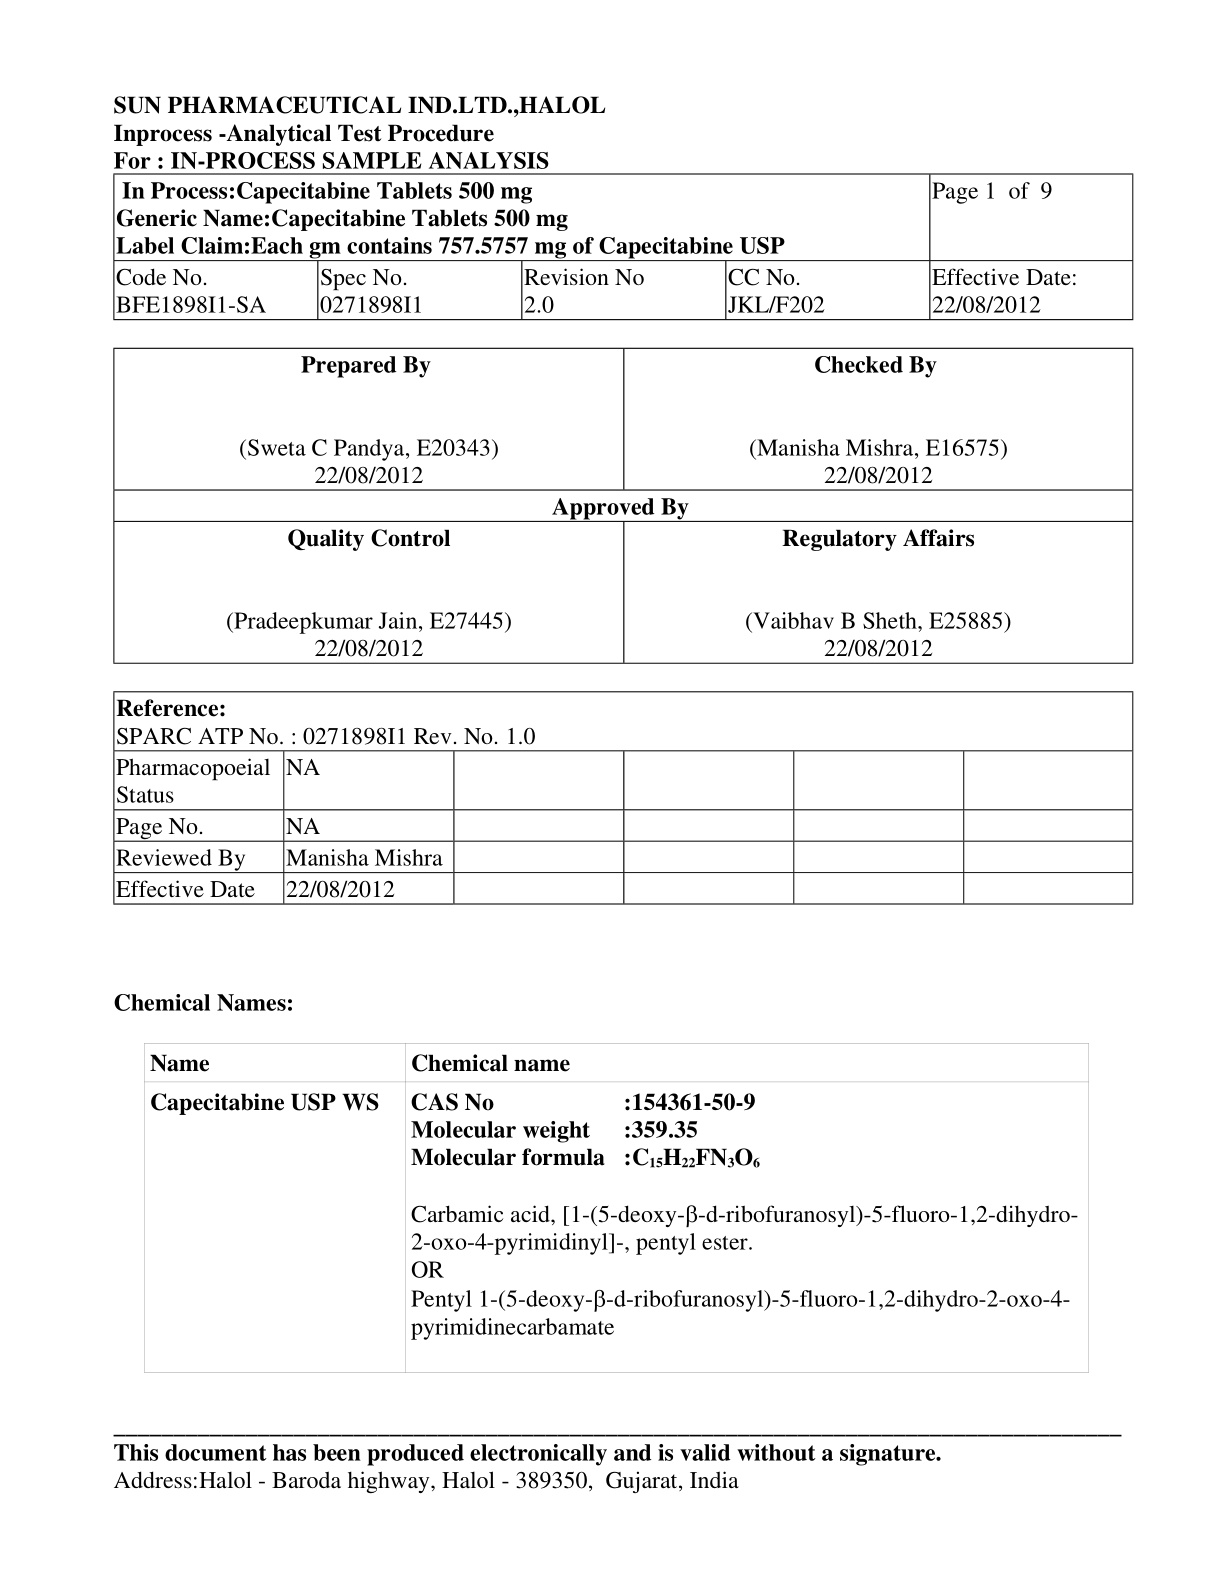full_lined: (141, 1041, 1090, 1374)
merged_cells: (112, 346, 1135, 665), (112, 689, 1135, 905), (112, 172, 1134, 321)
